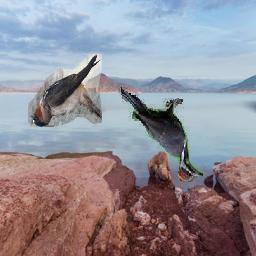Swallow: (28, 55, 102, 128)
Woodpecker: (119, 88, 203, 183)
